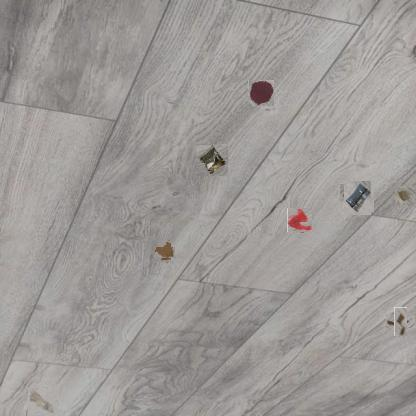dirty: (196, 144, 228, 176), (342, 182, 373, 214), (29, 386, 57, 414), (390, 311, 411, 332), (396, 187, 414, 206), (157, 244, 173, 260)
liquid: (248, 80, 274, 106), (287, 208, 312, 233)
